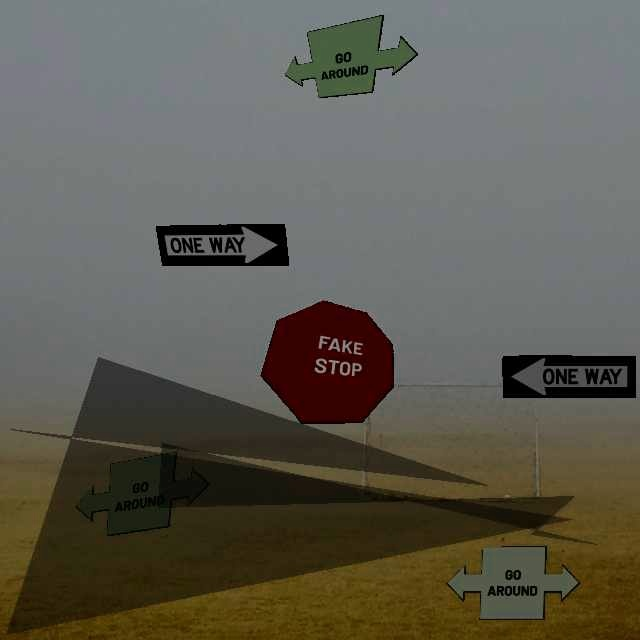FAKE_STOP: (260, 300, 394, 424)
GO_AROUND: (75, 451, 209, 536), (284, 14, 418, 98), (446, 546, 580, 620)
ONE_WAY_ left: (502, 355, 636, 398)
ONE_WAY_ right: (155, 223, 289, 266)
